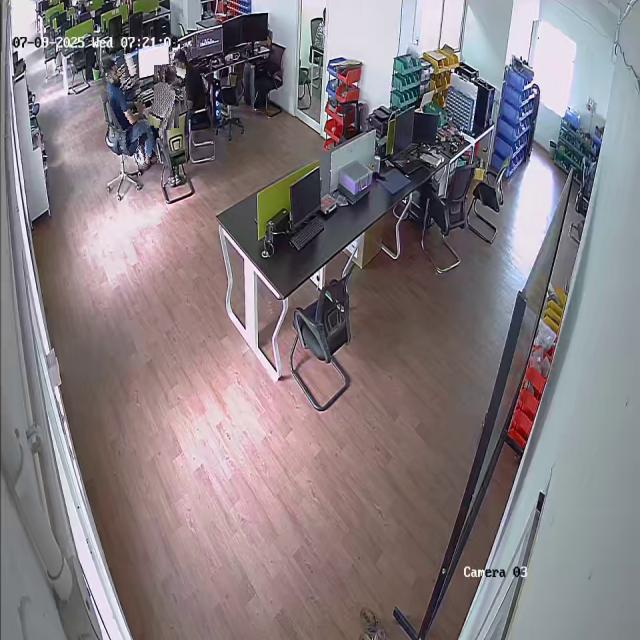person: (104, 54, 153, 171), (172, 46, 208, 109), (150, 64, 183, 129)
